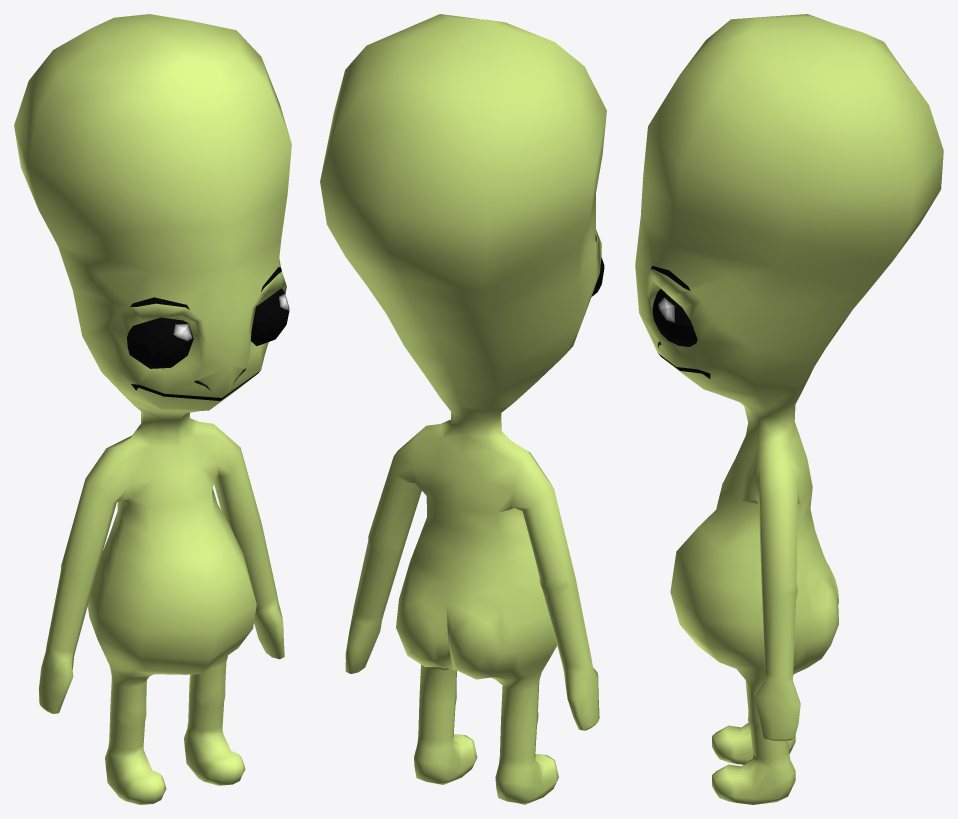
File: Glorb.fbx
The picture shows the model from 3 angles, left to right: view 1: azimuth 30°, elevation 25°; view 2: azimuth 150°, elevation 25°; view 3: azimuth 270°, elevation 25°; orthographic projection. The views are drawn at different scales.
Parts seen in each view (by area): view 1: Glorb; view 2: Glorb; view 3: Glorb.
Boxes of the visible parts, x1,y1,x2,y2 form: Glorb: [14, 14, 291, 804]; Glorb: [320, 14, 606, 804]; Glorb: [635, 14, 943, 804].
Bounding box in the file's own units: 5.86 × 16.38 × 6.14.
1 material, 1 textured.
